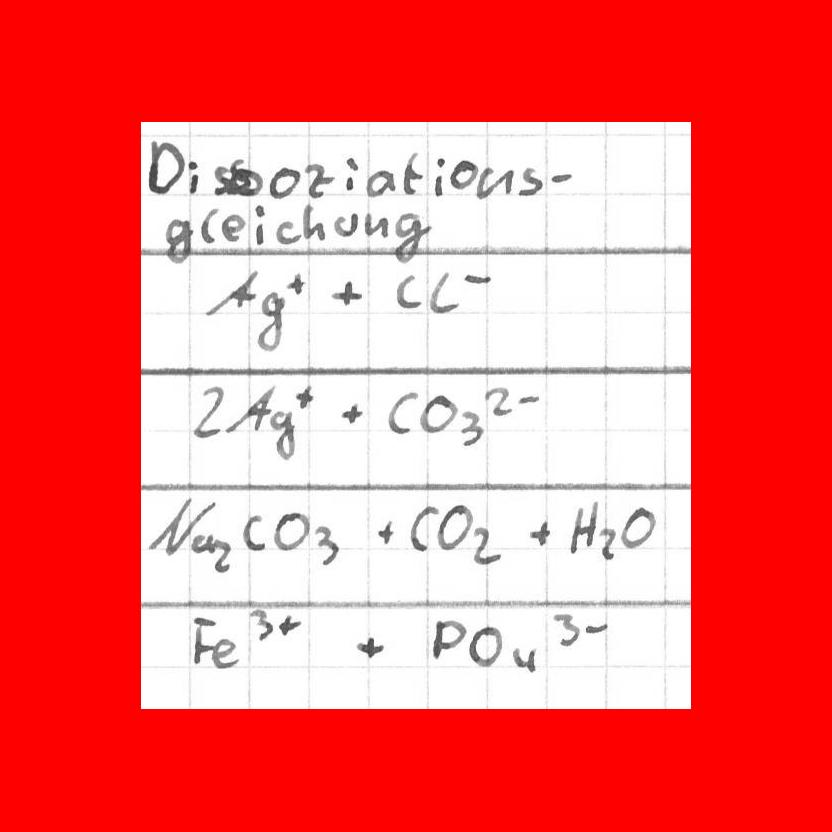Char: (148, 501, 205, 557), (224, 382, 271, 433), (206, 269, 254, 317), (392, 213, 429, 269), (568, 498, 601, 559), (147, 141, 182, 198), (254, 288, 284, 353), (189, 385, 223, 441), (620, 506, 656, 554), (188, 613, 223, 662), (431, 618, 466, 665), (162, 215, 193, 266), (438, 503, 471, 549), (385, 392, 419, 436), (420, 394, 457, 434), (468, 624, 502, 667), (407, 505, 436, 552), (273, 512, 307, 552), (429, 271, 459, 315), (312, 523, 340, 567), (471, 527, 502, 566), (230, 158, 261, 197), (477, 164, 509, 201), (551, 609, 580, 649), (271, 412, 295, 458), (402, 151, 426, 195), (394, 274, 422, 311), (457, 409, 484, 447), (269, 163, 298, 198), (304, 163, 332, 199), (301, 202, 326, 242), (330, 278, 362, 308), (210, 634, 238, 668), (240, 515, 265, 551), (353, 633, 386, 660), (365, 168, 394, 198), (248, 609, 275, 641), (484, 386, 511, 417), (449, 159, 475, 191), (210, 534, 232, 571), (511, 643, 537, 674), (517, 166, 543, 197), (363, 209, 389, 240), (199, 207, 218, 245), (334, 210, 358, 240), (222, 213, 245, 243), (275, 612, 302, 637), (527, 521, 552, 547), (431, 154, 446, 197), (276, 219, 298, 247), (341, 155, 358, 191), (293, 384, 316, 410), (212, 164, 230, 196), (337, 401, 362, 424), (376, 520, 396, 548), (185, 158, 200, 195), (284, 271, 307, 295), (253, 206, 267, 244), (461, 271, 493, 287), (190, 532, 214, 553), (516, 392, 542, 410), (601, 531, 617, 559), (583, 619, 607, 636), (549, 170, 574, 186)
